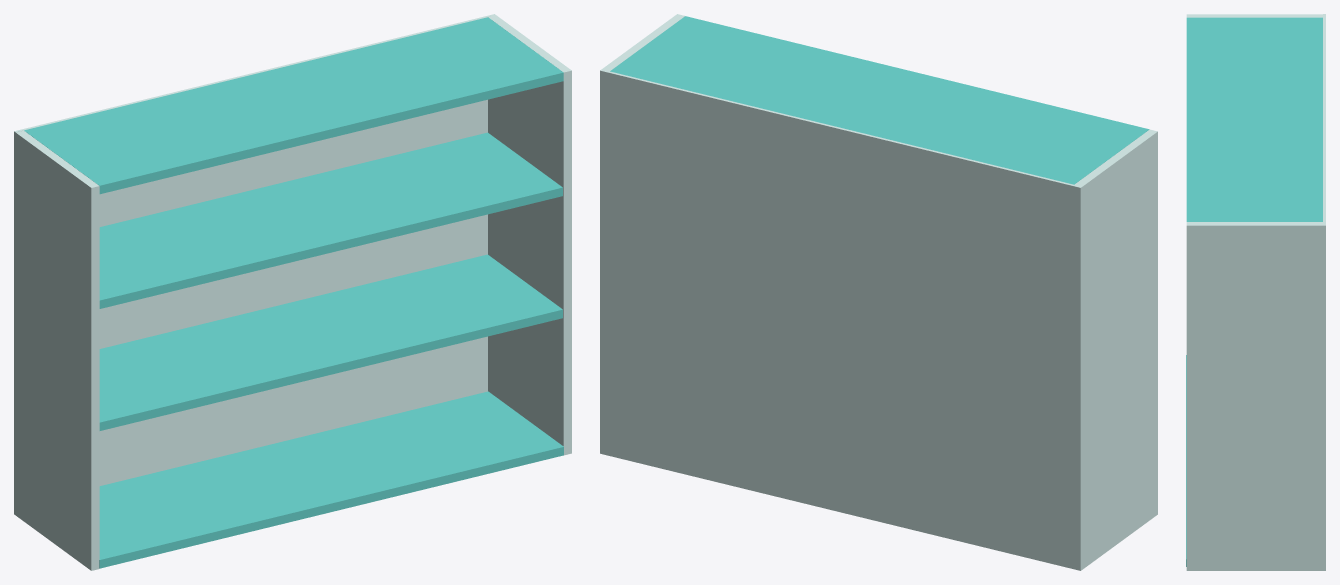
The picture shows the model from 3 angles, left to right: view 1: azimuth 30°, elevation 25°; view 2: azimuth 150°, elevation 25°; view 3: azimuth 270°, elevation 25°; orthographic projection. The views are drawn at different scales.
Visible parts, largest first — view 1: Object_2, Object_3; view 2: Object_3, Object_2; view 3: Object_3, Object_2.
Boxes of the visible parts, x1,y1,x2,y2 form: Object_2: [24, 17, 563, 568]; Object_3: [14, 14, 571, 570]; Object_3: [600, 14, 1157, 570]; Object_2: [610, 16, 1149, 184]; Object_3: [1186, 14, 1325, 570]; Object_2: [1186, 17, 1322, 566].
Bounding box in the file's own units: 1.12 × 0.8513 × 0.3125.
